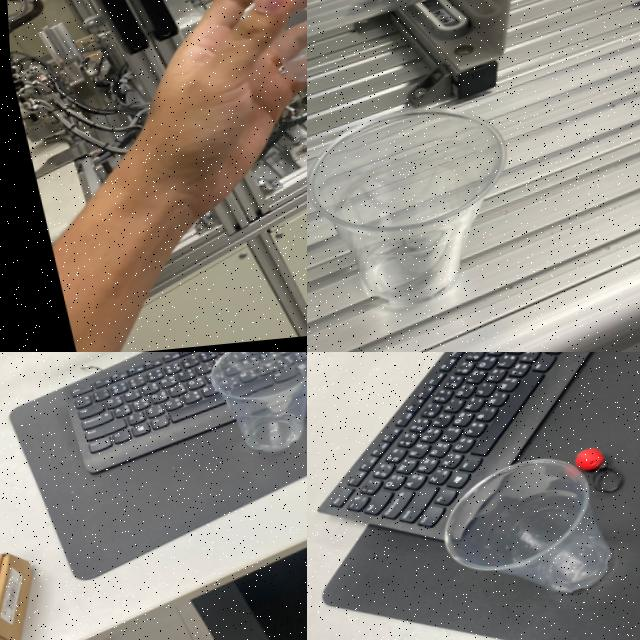glass: (307, 80, 540, 342), (421, 438, 635, 636), (197, 352, 307, 481), (183, 0, 307, 113)
